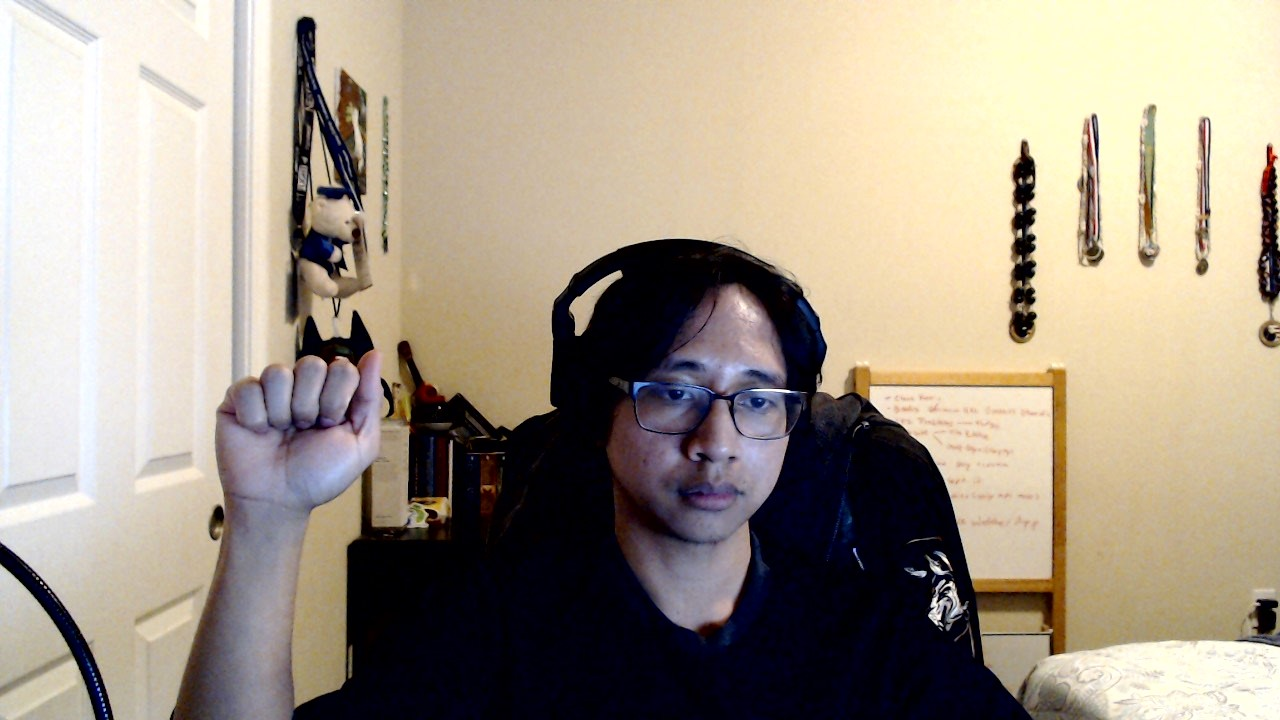a: (213, 345, 385, 519)
